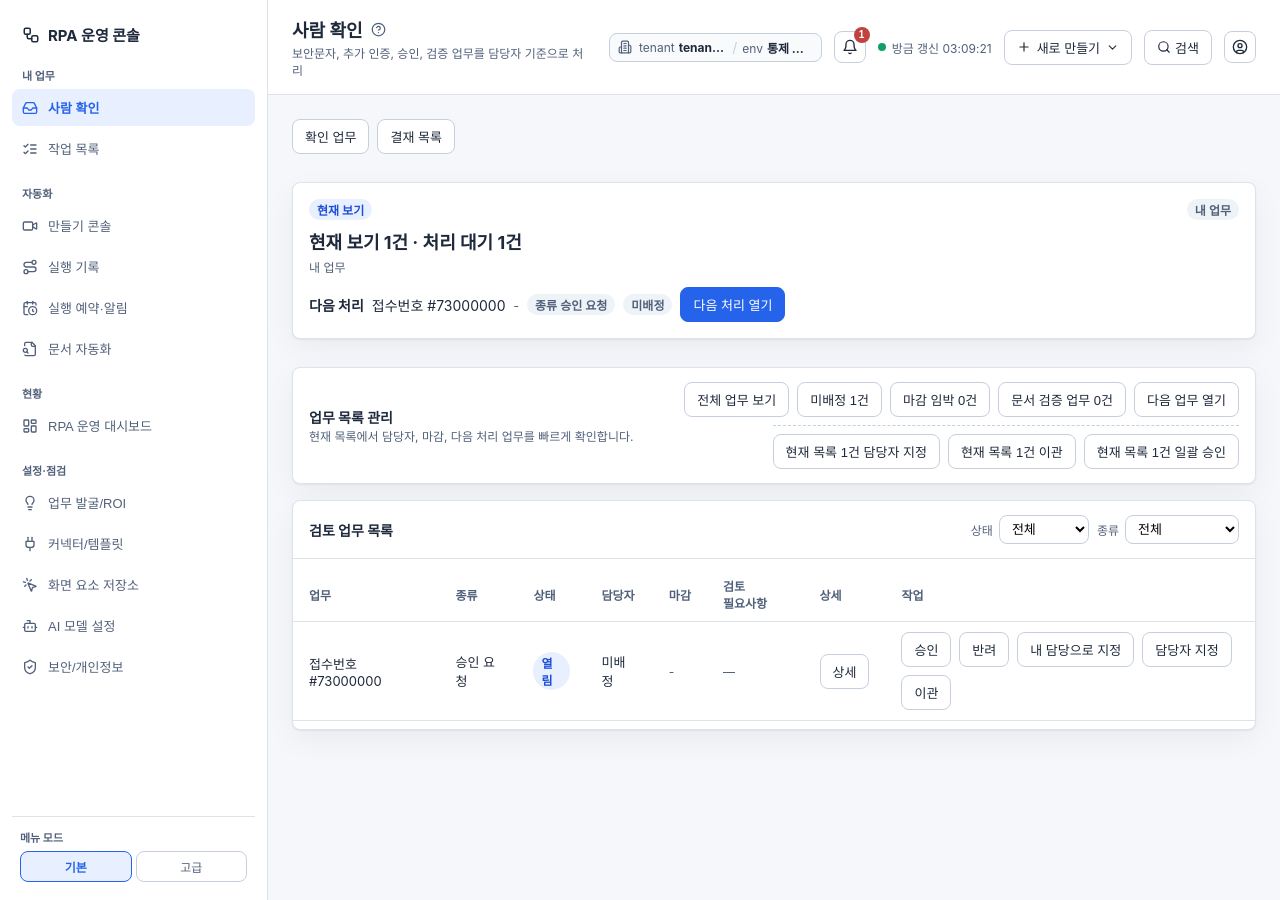
Test: 담당자 배정 picker(/v1/principals datalist) › principals 비어도 자유 입력 폴백 유지
Step 1. Click the button "현재 목록 1건 담당자 지정" → (856, 452), box [773,434,940,469]
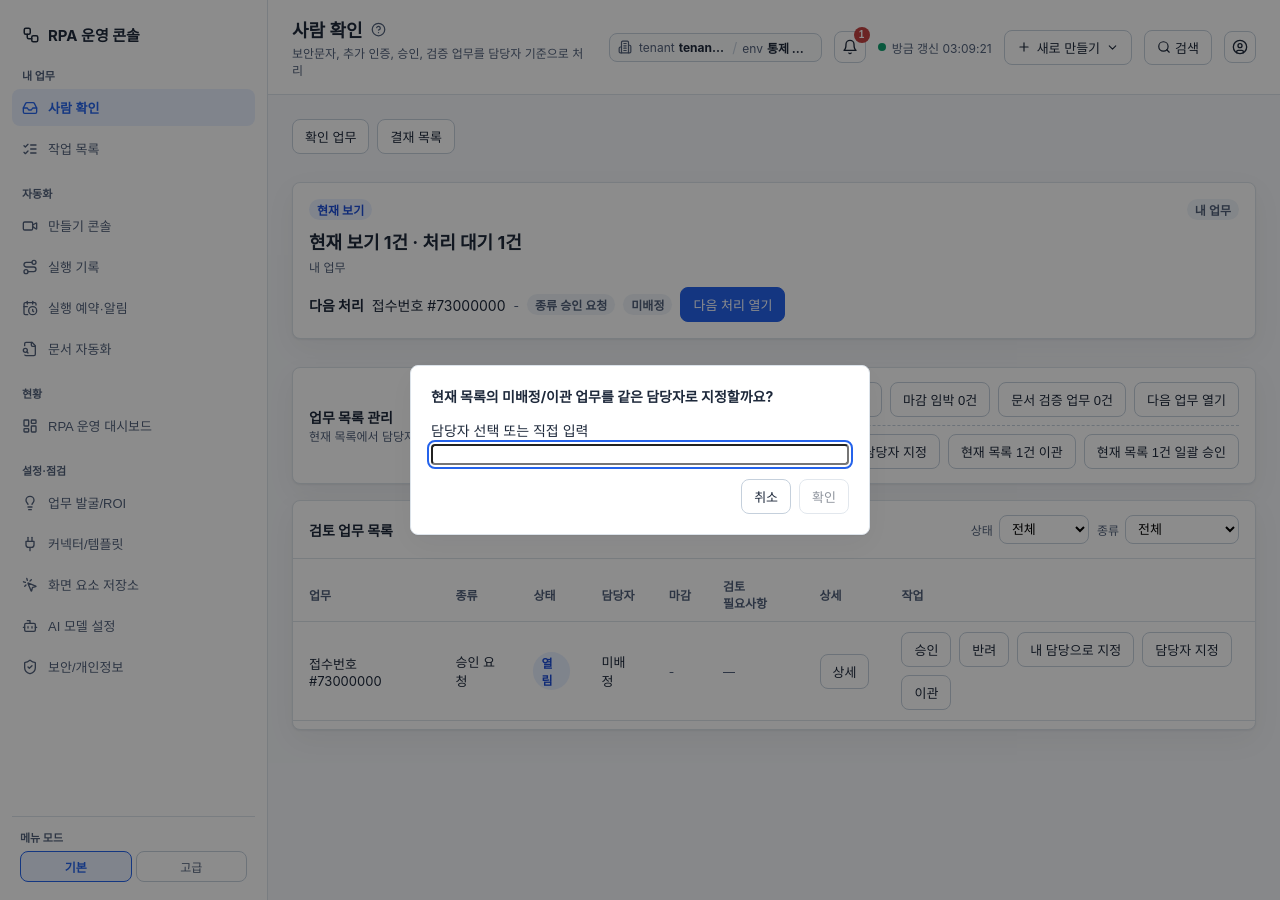
Now the field labelled "담당자 선택 또는 직접 입력" is shown, box [431,444,849,465]
